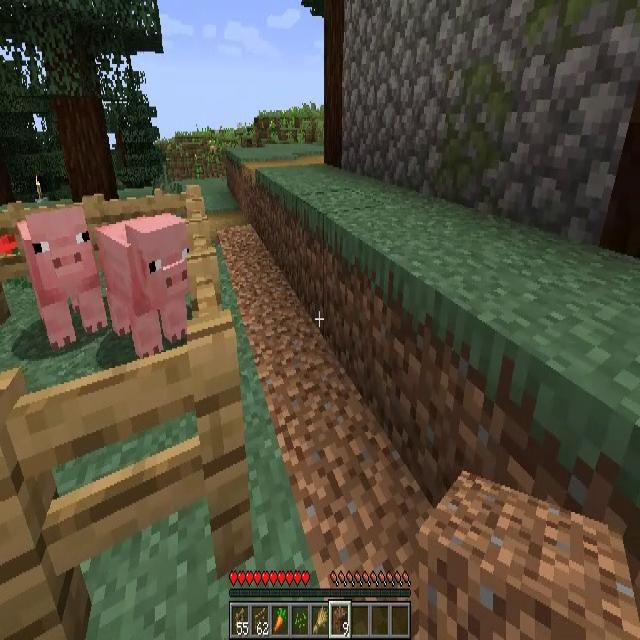pig: (15, 205, 105, 353), (96, 214, 188, 356)
